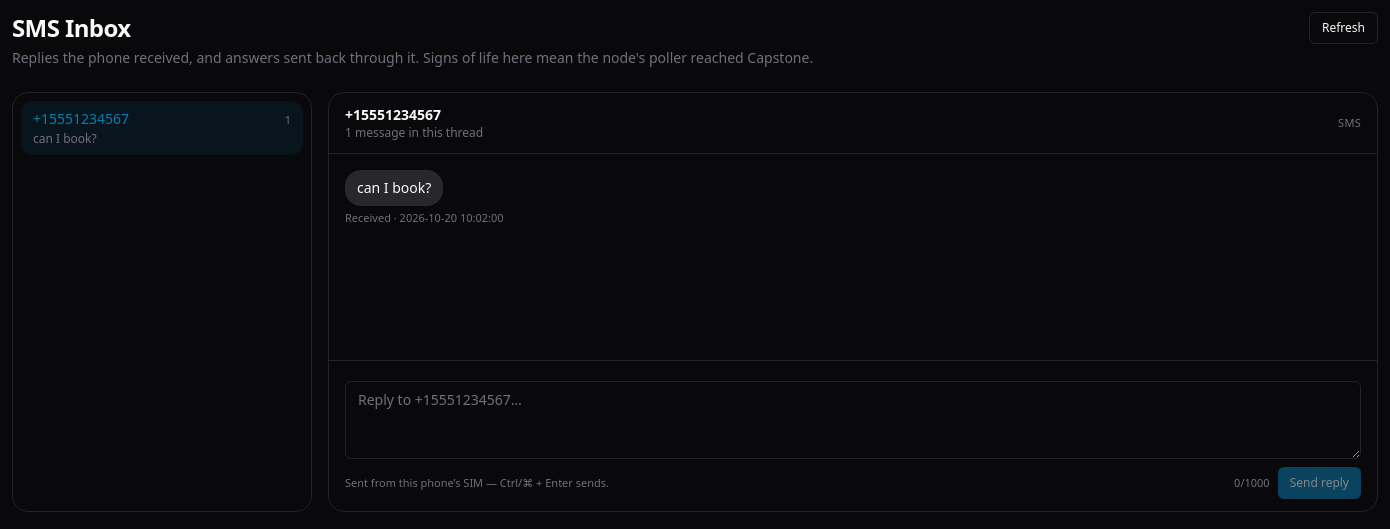
Scenario: SMS Inbox › sends a reply to the open thread through the phone and reloads it
This screenshot has width=1390, height=529.
Expected: the text "can I book?" below "message" is shown, [357,178,431,197]
Type "yes, 3pm works" into the text box labelled "Reply to +15551234567".
click(853, 420); type("yes, 3pm works")  # box [345,381,1361,459]
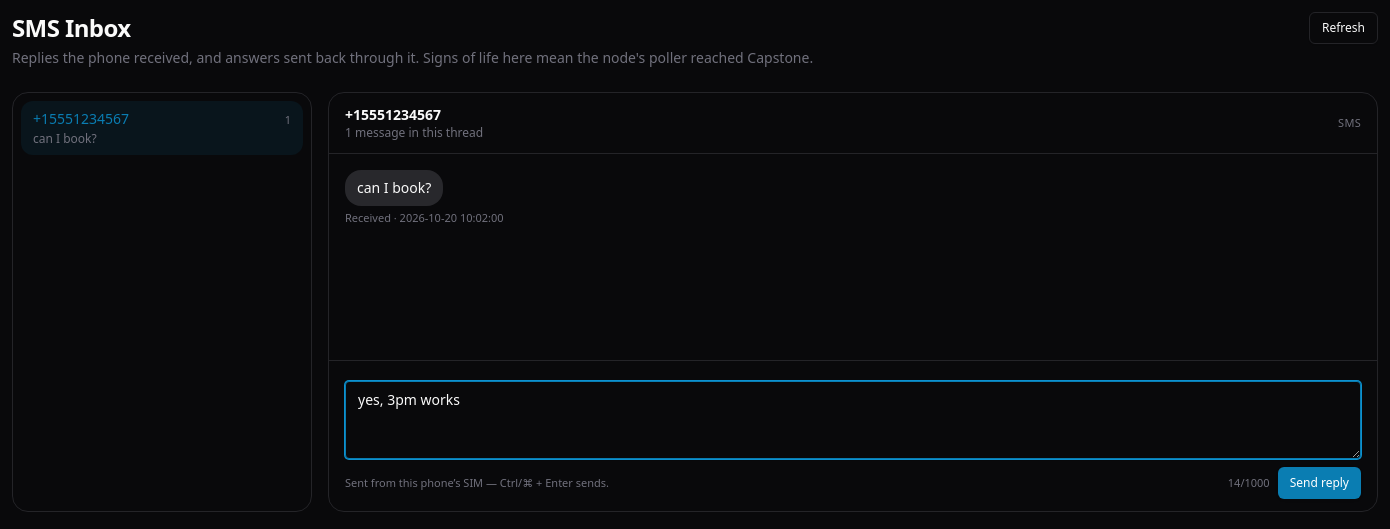
Click the button "Send reply".
click(1319, 483)  # box [1278,467,1361,499]
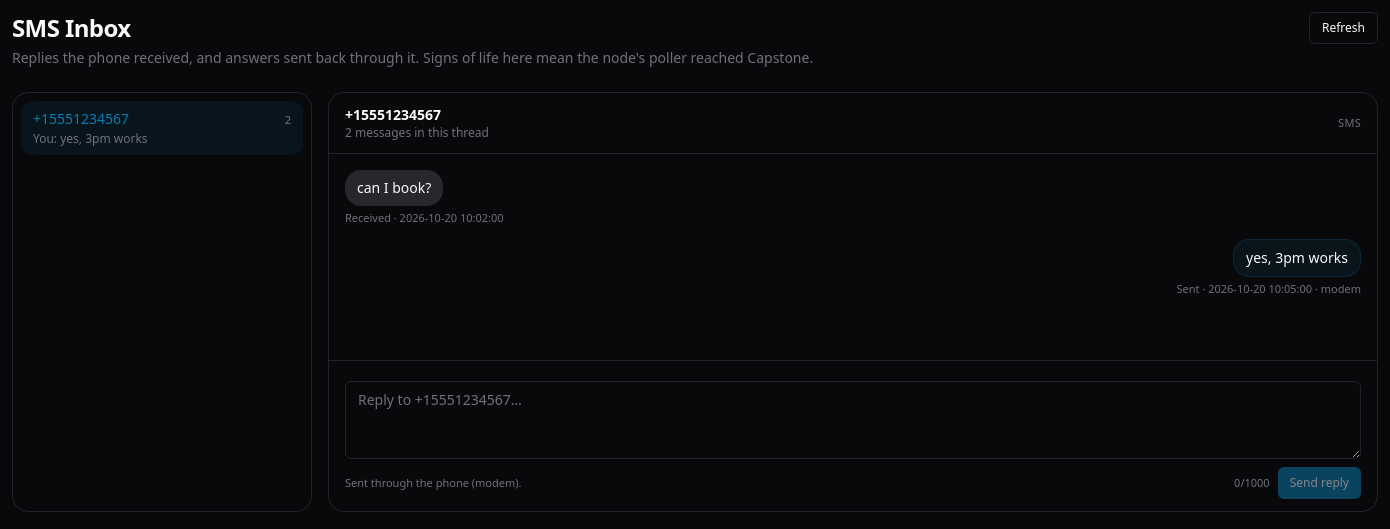
Result: the text "yes, 3pm works" is shown at [1233,238,1361,276]
Result: the text "Sent through the phone (modem)." is shown at [345,475,522,491]
Result: the text box labelled "Reply to +15551234567" is empty at [345,381,1361,459]
